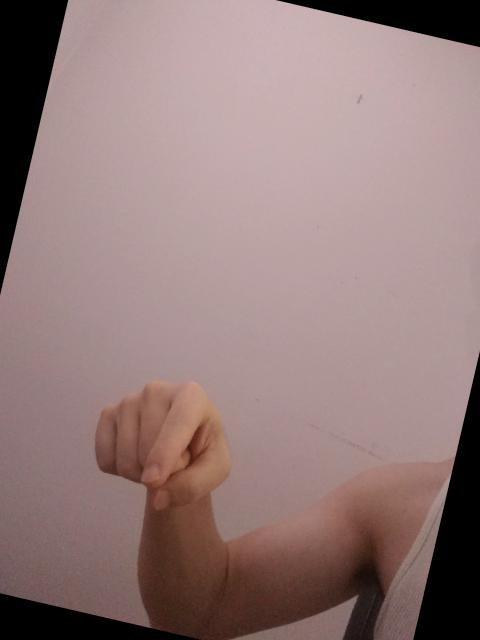Z: (76, 357, 253, 529)
